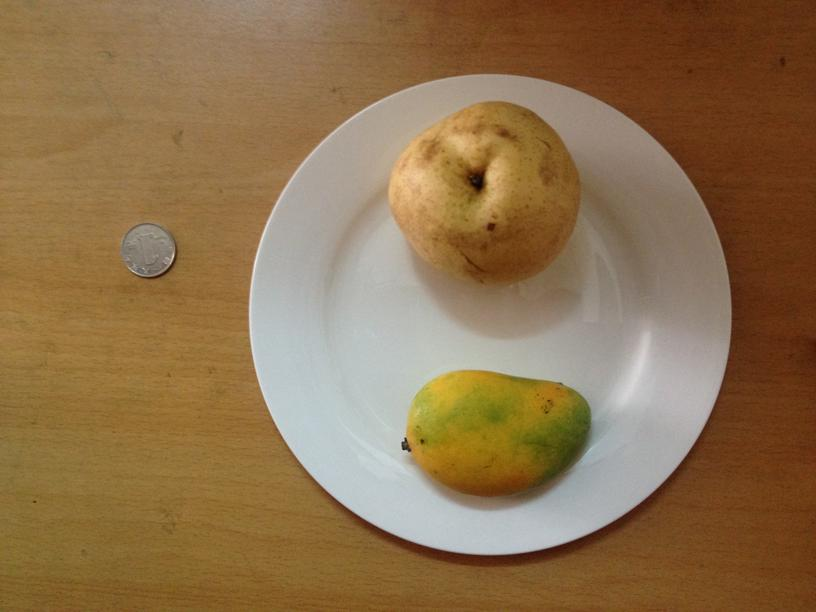coin: (116, 221, 174, 275)
mango: (405, 370, 590, 492)
pear: (389, 97, 583, 287)
